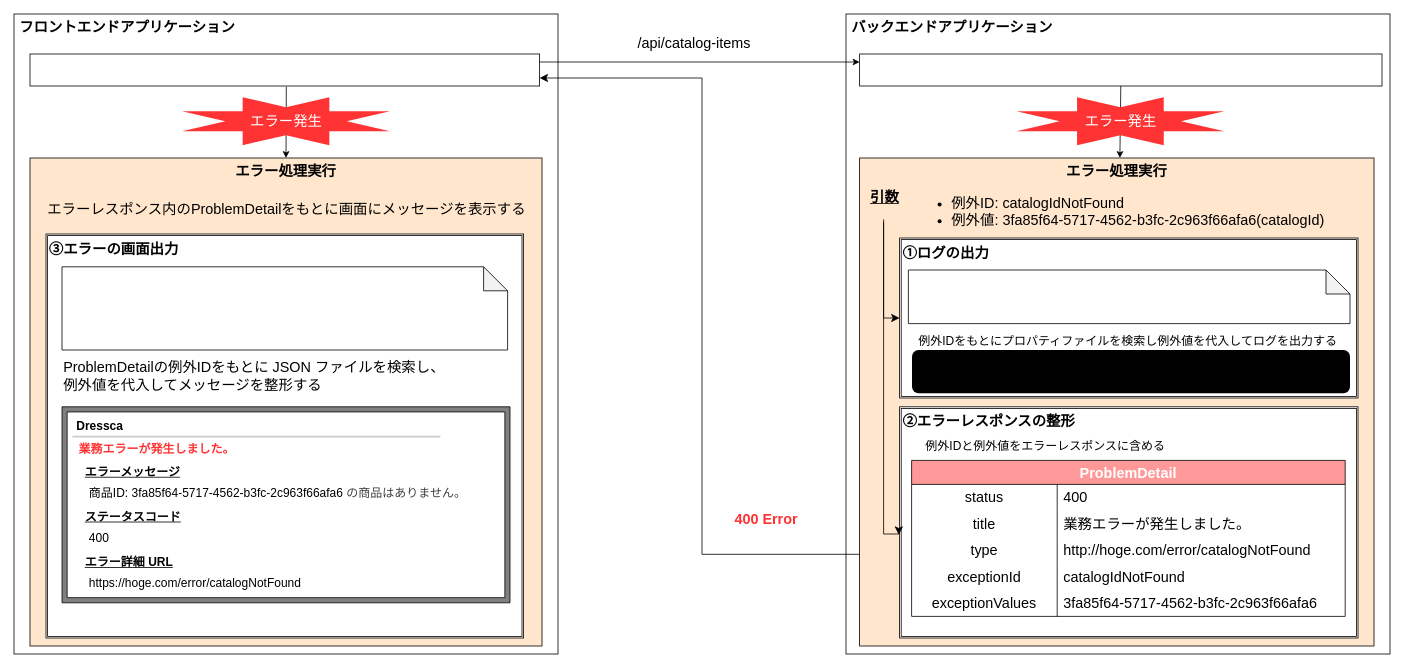
Image size: 1404x668. Some labels were removed from this diagram. Each missing label, with the centre of its shape:
2024/11/20 19:31:03 商品ID:3fa85f64-5717-4562-b3fc-2c963f66afa6の商品が見つかりませんでした。: (x=1131, y=371)
API呼び出し: (x=284, y=69)
JSON ファイル { "catalogIdNotFound" : "商品ID:[0] の商品はありません。" }: (x=284, y=308)
プロパティファイル catalogIdNotFound = 商品ID:{0}の商品が見つかりませんでした。: (x=1129, y=296)
処理実行: (x=1120, y=69)
